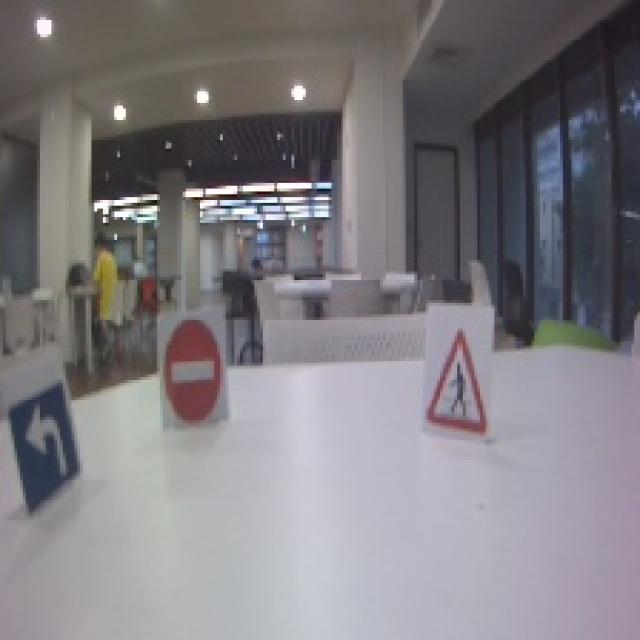DoNotEnterSign: (163, 318, 224, 423)
